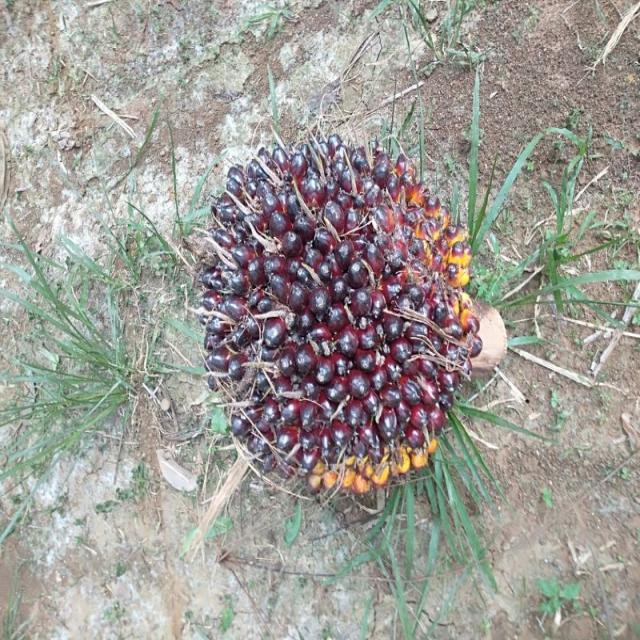fraksi 1: (190, 138, 483, 496)
